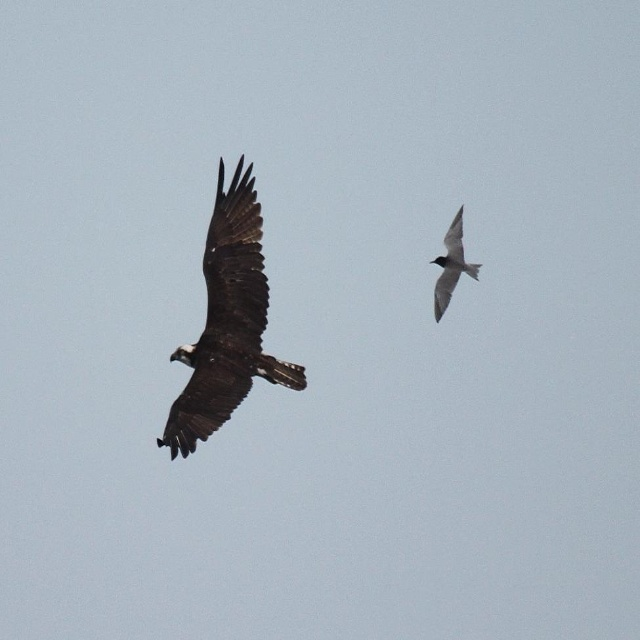Eagle: (153, 153, 311, 465)
